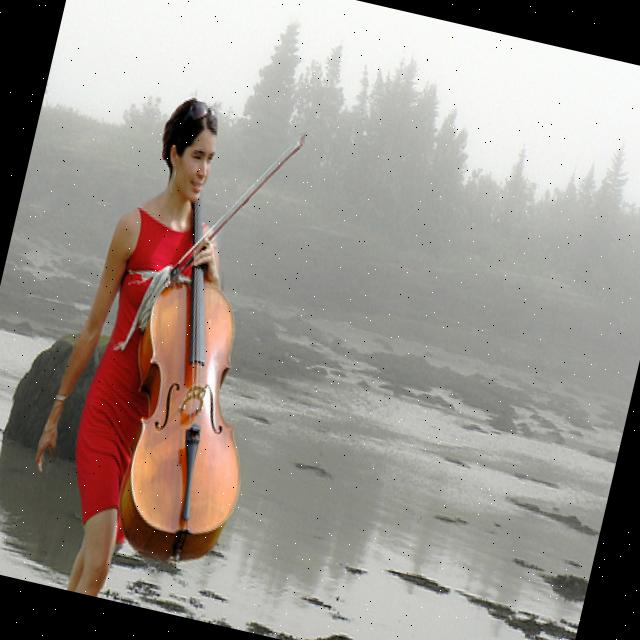cello: (91, 174, 308, 576)
